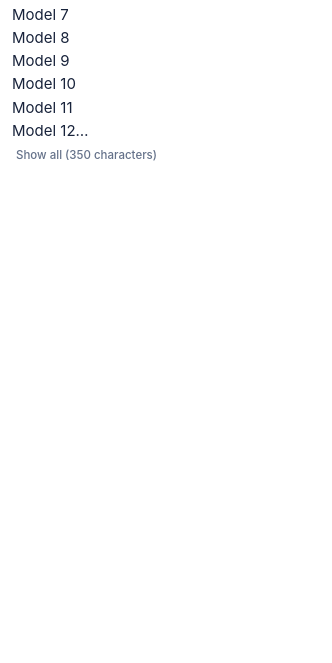
Test: a long question › shows its first lines with Show all; a short one shows whole
The image size is (332, 663).
Later steps or results of the test are not shown.
Click the button "Show all (350 characters)" at (87, 156), box [12,147,161,165]
(page scrolled)
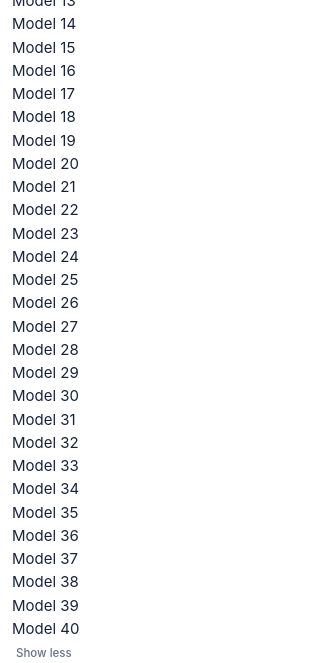
expect the button with test id "long-text-toggle" reads "Show less": met, box [12,645,76,662]
